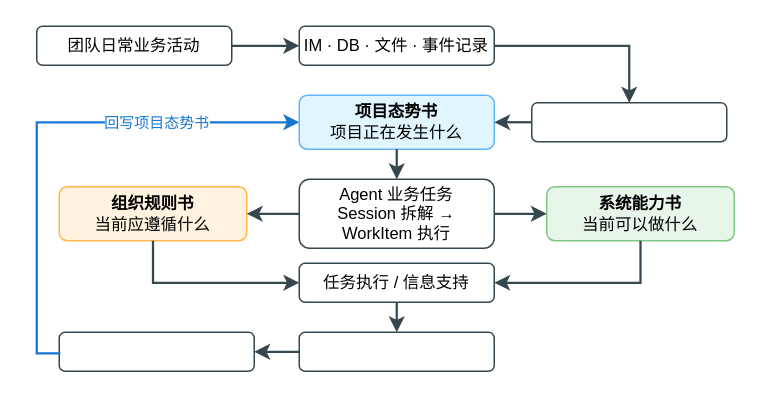
This 762x398 diagram has some shape labels left out. Here are the shapes that lost their labels. From the top down, the centre of each, then its label:
the point at 628,121: 项目过程信息进入系统
the point at 156,351: 新的过程事件和业务记录
the point at 396,351: 人工确认 / 业务结果
